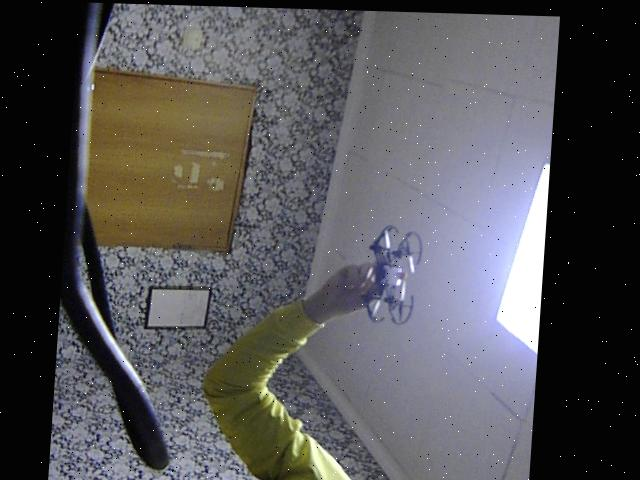drone: (362, 210, 438, 337)
